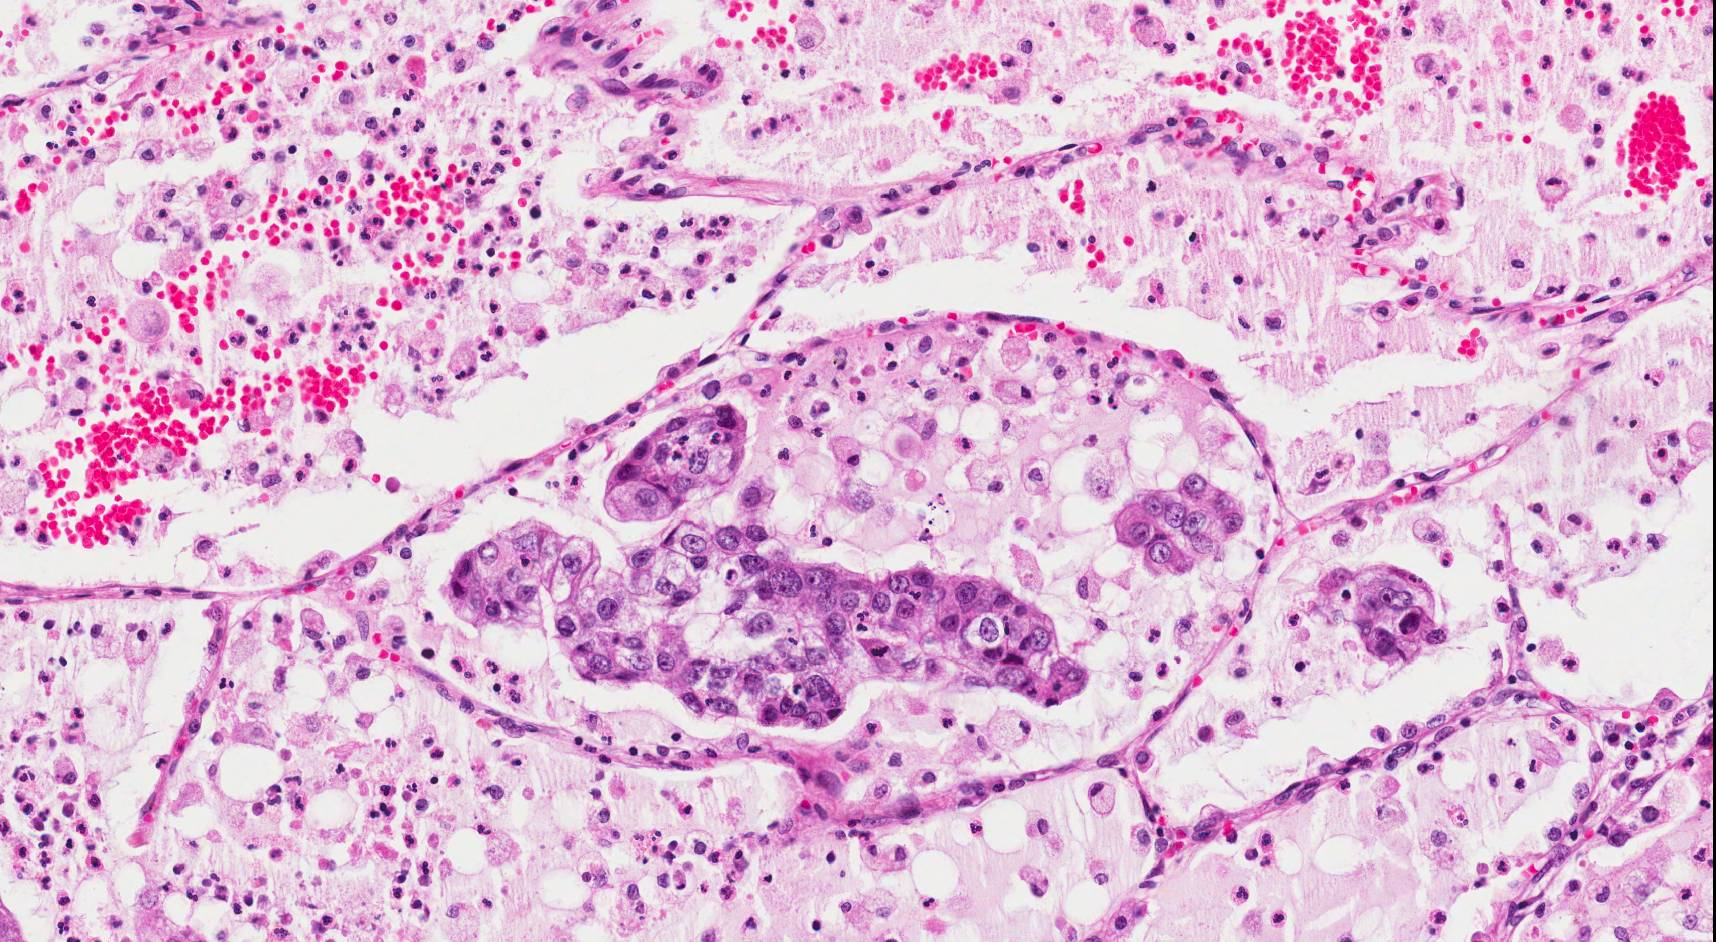stas: (449, 478, 1090, 731), (602, 401, 750, 525), (1316, 562, 1455, 670), (1112, 473, 1250, 580)
